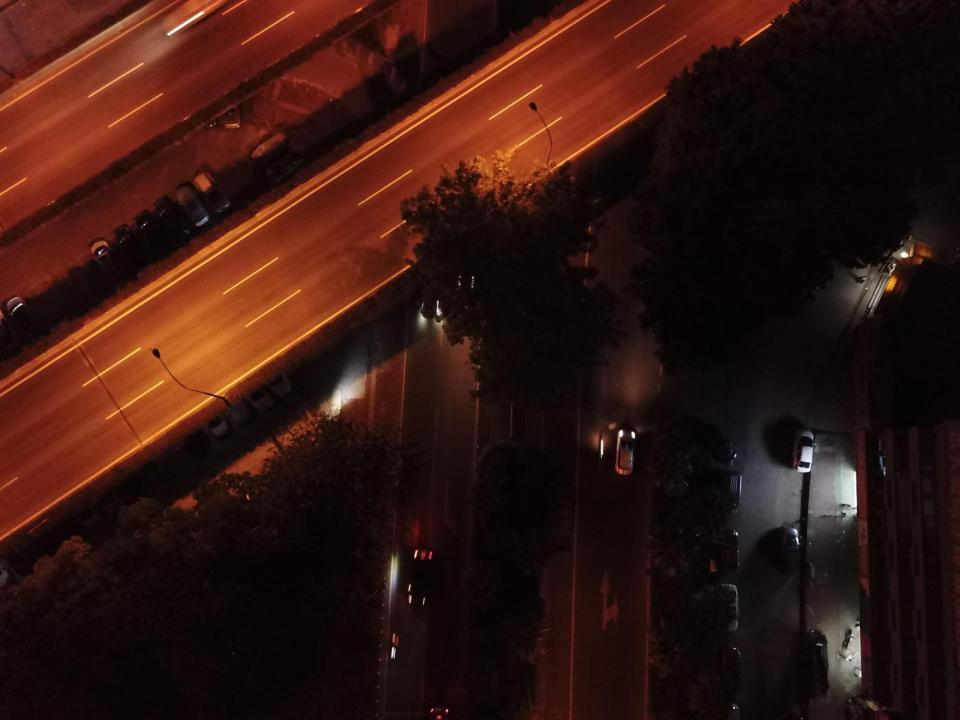car: (405, 546, 438, 612), (192, 172, 232, 214), (173, 184, 210, 227), (264, 149, 306, 184), (702, 424, 737, 464), (90, 239, 124, 280), (156, 200, 190, 240), (714, 584, 740, 634), (112, 224, 141, 261), (792, 429, 816, 473), (720, 645, 741, 695), (6, 296, 36, 331), (137, 214, 167, 248), (615, 428, 636, 476), (718, 528, 740, 572), (197, 94, 219, 130), (222, 96, 243, 130)
van: (779, 526, 800, 574), (723, 473, 742, 514)
